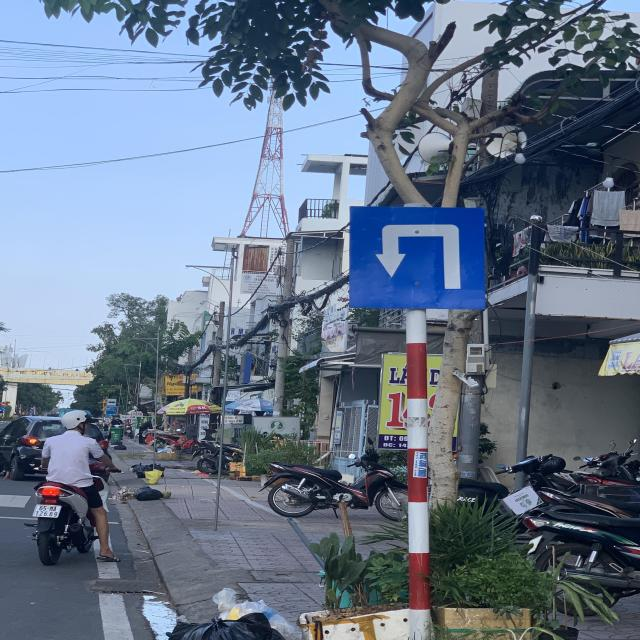Den_Giao_Thong: (351, 207, 486, 310)
